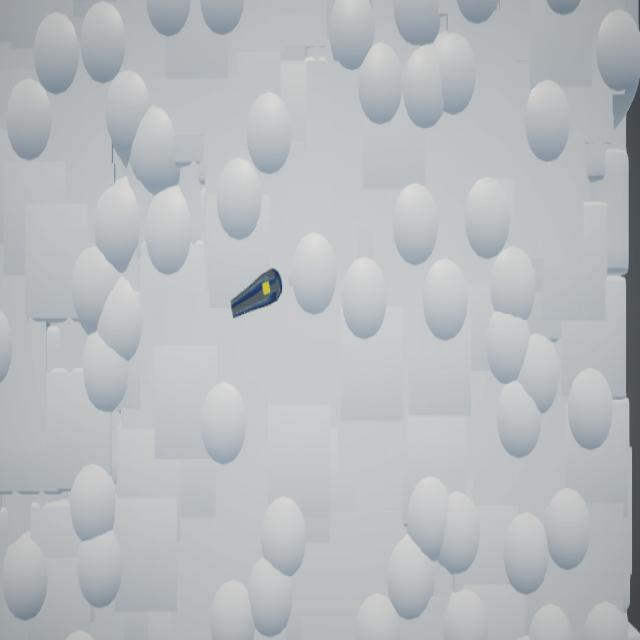handle_knife: (231, 269, 284, 320)
